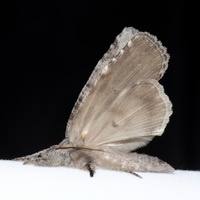insect: (15, 27, 173, 176), (16, 27, 173, 176)
